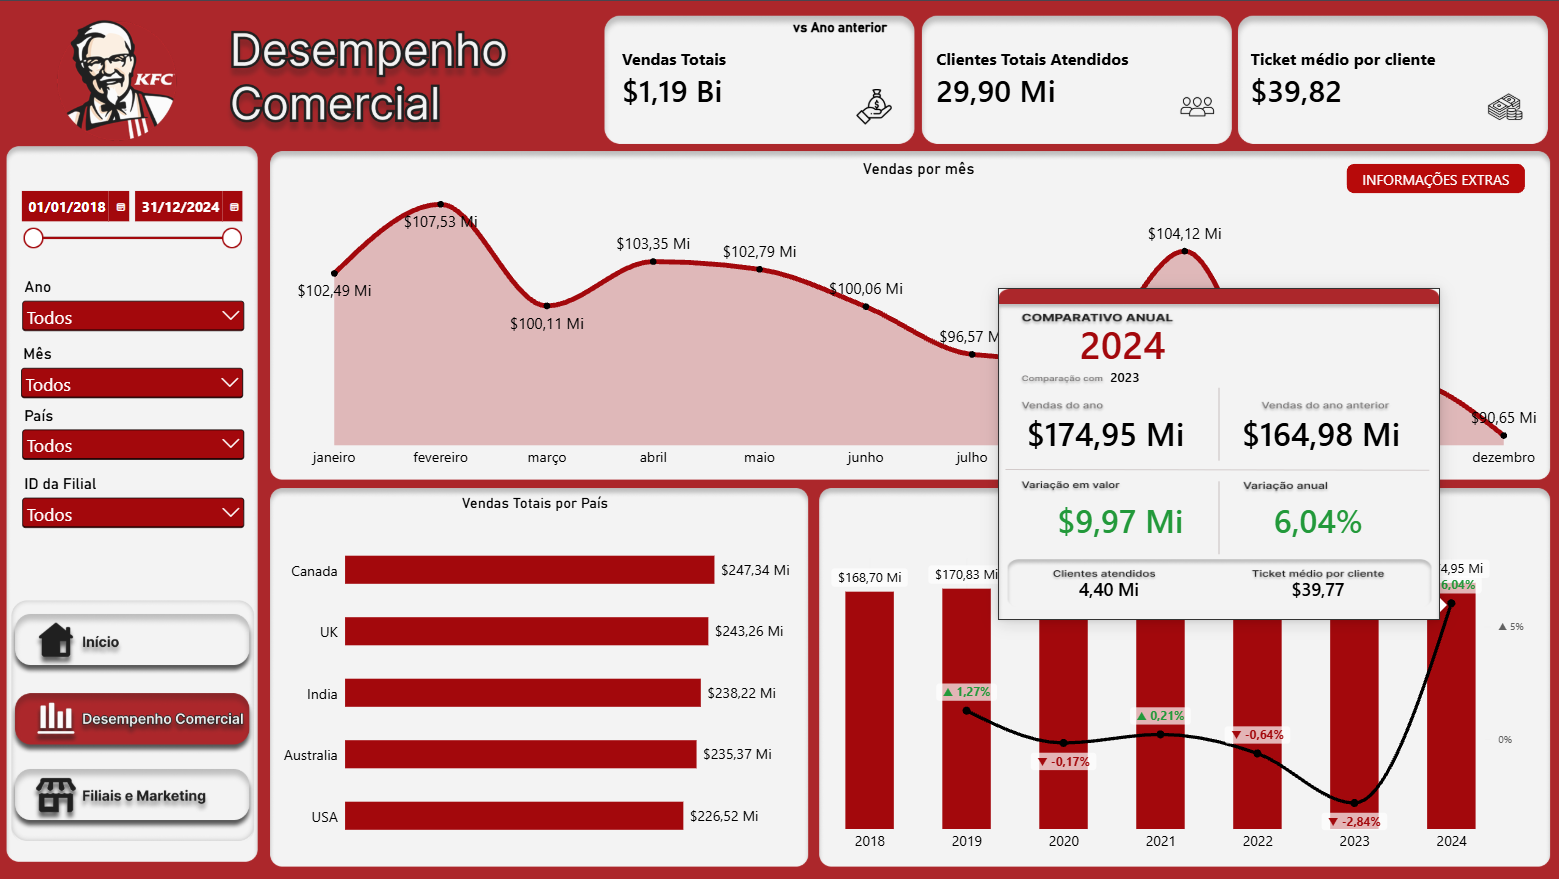

This screenshot's page, from the dashboard's own definition file:
{"tool":"powerbi","page":{"name":"Desempenho Comercial","canvas":[1920,1080],"ordinal":1},"visuals":[{"type":"lineChart","title":"Vendas  por mês","fields":{"Category":["dCalendario.Mês"],"Y":["Medidas.Vendas Totais"]},"box":[345,180.9,1573.3,412.8],"z":0},{"type":"cardVisual","fields":{"Data":["Medidas.Vendas Totais","Medidas.Clientes Totais","Medidas.Receita por Cliente"]},"box":[750.7,20.6,1150.2,152.8],"z":1000},{"type":"barChart","title":"Vendas Totais por País","fields":{"Category":["Conjunto de dados de vendas globais do KFC (2018–2024).País","Conjunto de dados de vendas globais do KFC (2018–2024).ID da Filial"],"Y":["Medidas.Vendas Totais"]},"box":[327.6,593.5,665.5,474.5],"z":2000},{"type":"lineStackedColumnComboChart","title":"Total de Vendas e Variação Anual % ","fields":{"Category":["dCalendario.Ano"],"Y":["Medidas.Vendas Totais"],"Y2":["Medidas.Variação Anual de Vendas %"]},"box":[1006.3,593.5,896.1,473],"z":3000},{"type":"cardVisual","title":"vs Ano anterior","fields":{"Data":["Medidas.Vendas Ano Atual vs Ano Anterior"]},"box":[950.5,23.5,168.9,88.1],"z":4000},{"type":"image","box":[1022.4,108.7,108.7,44.1],"z":5000},{"type":"image","box":[1814.2,108.7,76.4,44.1],"z":6000},{"type":"image","box":[1435.2,108.7,76.4,44.1],"z":7000},{"type":"actionButton","box":[23.3,758,280.9,56.5],"z":8000},{"type":"actionButton","box":[19.9,949.2,284.3,58.2],"z":9000},{"type":"slicer","fields":{"Values":["Conjunto de dados de vendas globais do KFC (2018–2024).ID da Filial"]},"box":[24,581.1,283.5,85.2],"z":10000},{"type":"slicer","fields":{"Values":["Conjunto de dados de vendas globais do KFC (2018–2024).País"]},"box":[24,497.7,283.5,83.7],"z":11000},{"type":"slicer","fields":{"Values":["dCalendario.Ano"]},"box":[24,339.3,283.5,82.3],"z":12000},{"type":"slicer","fields":{"Values":["dCalendario.Data"]},"box":[20.6,227.7,283.5,104.3],"z":13000},{"type":"slicer","fields":{"Values":["dCalendario.Mês Abreviado"]},"box":[22.6,421.3,283.5,82.3],"z":14000},{"type":"actionButton","title":"Botão - INFO","box":[1656.5,200.4,219.3,36.3],"z":17000}]}

Visuals, with their boxes in screenshot pixels (x1, y1, x2, y2), scaled from the page's 1920x1080 canvas onto the 1559x879 screenshot:
"Vendas  por mês" lineChart: 280, 147, 1558, 483
cardVisual - Medidas.Vendas Totais x Medidas.Clientes Totais: 610, 17, 1543, 141
"Vendas Totais por País" barChart: 266, 483, 806, 869
"Total de Vendas e Variação Anual % " lineStackedColumnComboChart: 817, 483, 1545, 868
"vs Ano anterior" cardVisual: 772, 19, 909, 91
image: 830, 88, 918, 124
image: 1473, 88, 1535, 124
image: 1165, 88, 1227, 124
actionButton: 19, 617, 247, 663
actionButton: 16, 773, 247, 820
slicer - Conjunto de dados de vendas globais do KFC (2018–2024).ID da Filial: 19, 473, 250, 542
slicer - Conjunto de dados de vendas globais do KFC (2018–2024).País: 19, 405, 250, 473
slicer - dCalendario.Ano: 19, 276, 250, 343
slicer - dCalendario.Data: 17, 185, 247, 270
slicer - dCalendario.Mês Abreviado: 18, 343, 249, 410
"Botão - INFO" actionButton: 1345, 163, 1523, 193
